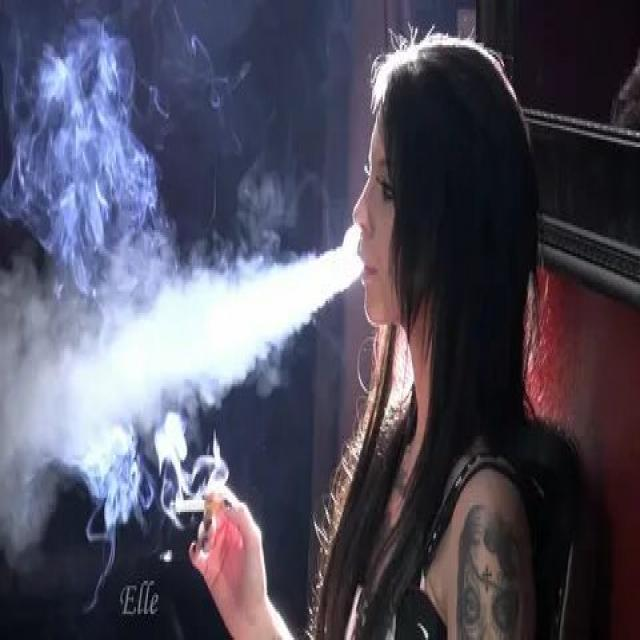cigarette: (175, 493, 229, 522)
